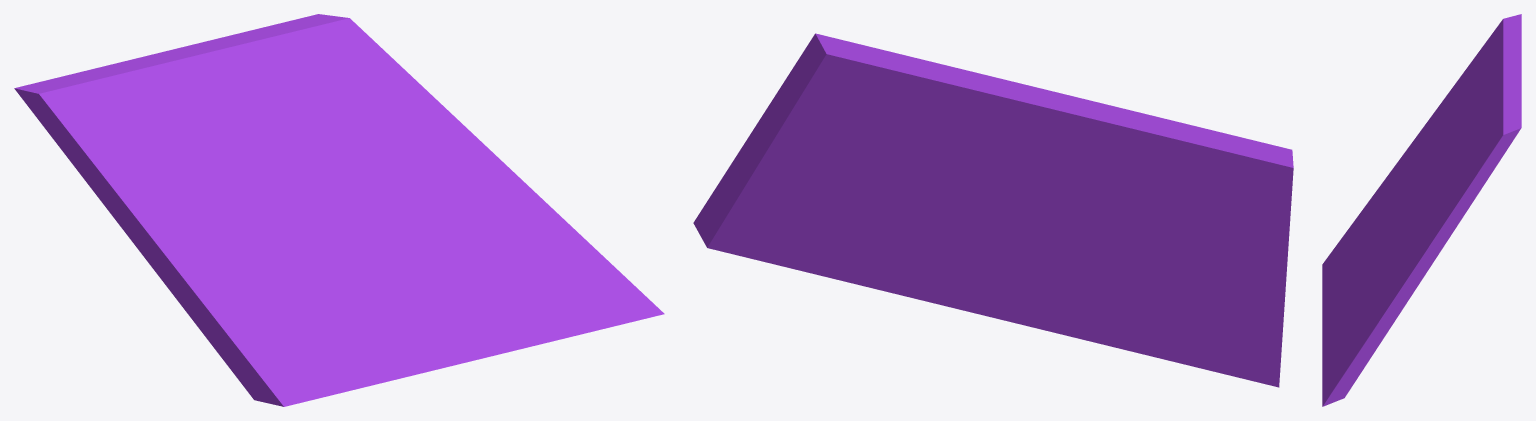
File: Window_85_chunks.fbx
The picture shows the model from 3 angles, left to right: view 1: azimuth 30°, elevation 25°; view 2: azimuth 150°, elevation 25°; view 3: azimuth 270°, elevation 25°; orthographic projection. The views are drawn at different scales.
Parts seen in each view (by area): view 1: Window_85_0, Window_85_1, Window_85_2, Window_85_3; view 2: Window_85_1, Window_85_0, Window_85_2; view 3: Window_85_0, Window_85_1, Window_85_2, Window_85_3.
Part boxes in pixels (box(x1,y1,x2,y2)): Window_85_0: box(232, 201, 664, 406); Window_85_1: box(14, 38, 317, 371); Window_85_2: box(221, 14, 552, 209); Window_85_3: box(266, 92, 375, 210); Window_85_1: box(976, 74, 1293, 367); Window_85_0: box(693, 156, 1280, 387); Window_85_2: box(736, 33, 1022, 220); Window_85_0: box(1322, 200, 1413, 406); Window_85_1: box(1352, 14, 1521, 223); Window_85_2: box(1386, 91, 1521, 318); Window_85_3: box(1411, 126, 1476, 222).
Size of the model in its own units: 1753 by 829 by 756.
